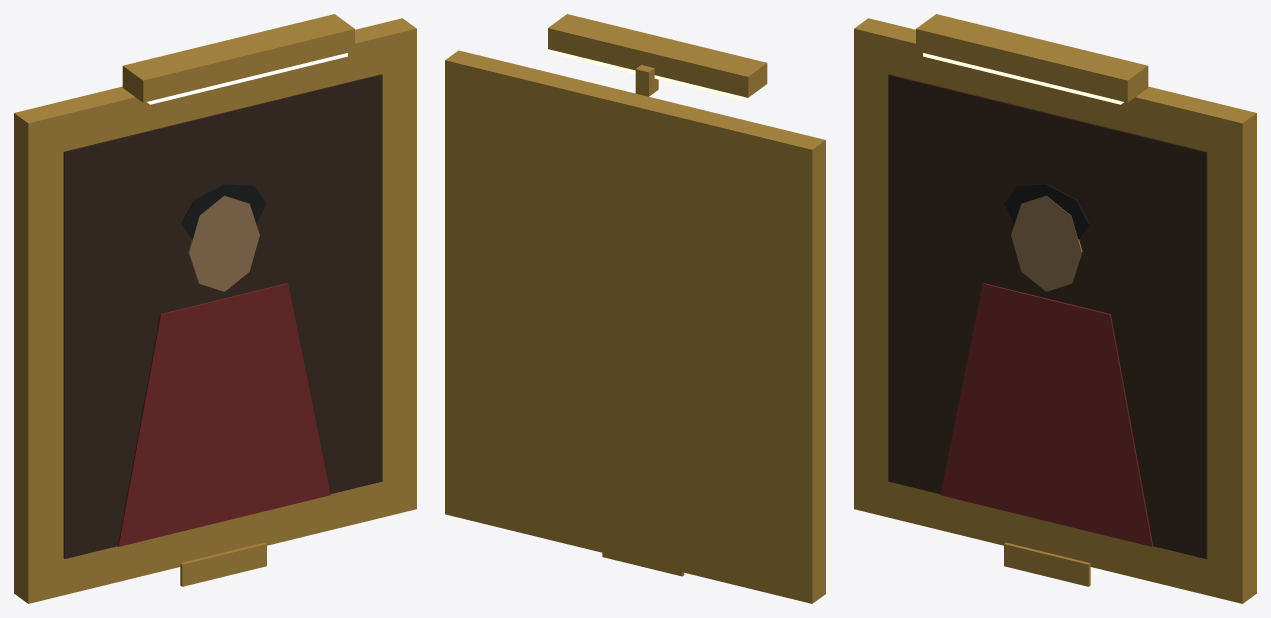
Rendered from portrait_gilt.glb.
3 renders of one model, left to right at view 1: azimuth 30°, elevation 25°; view 2: azimuth 150°, elevation 25°; view 3: azimuth 330°, elevation 25°, orthographic. The views are drawn at different scales.
Parts seen in each view (by area): view 1: portrait_gilt; view 2: portrait_gilt; view 3: portrait_gilt.
Boxes of the visible parts, box(x1,y1,x2,y2) form: portrait_gilt: box(14, 14, 416, 603); portrait_gilt: box(445, 14, 825, 603); portrait_gilt: box(854, 14, 1256, 603).
Size of the model in its own units: 1.1 by 1.46 by 0.2.
Materials: 1 (1 with a texture image).
